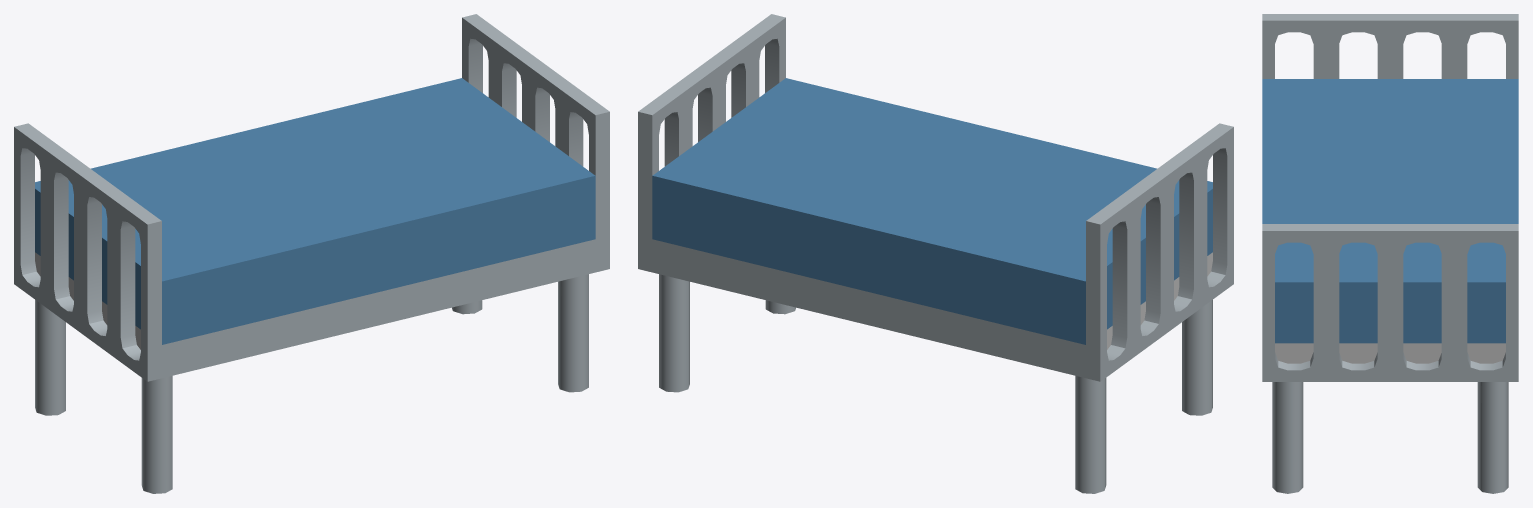
Rendered from OldBed_Block.fbx.
3 renders of one model, left to right at view 1: azimuth 30°, elevation 25°; view 2: azimuth 150°, elevation 25°; view 3: azimuth 270°, elevation 25°, orthographic. The views are drawn at different scales.
Visible parts, largest first — view 1: OldBed_Block1, OldBed_Block2; view 2: OldBed_Block1, OldBed_Block2; view 3: OldBed_Block2, OldBed_Block1.
Boxes of the visible parts, x1=… form: OldBed_Block1: x1=14, y1=123, x2=378, y2=493; OldBed_Block2: x1=246, y1=14, x2=609, y2=392; OldBed_Block1: x1=869, y1=123, x2=1233, y2=493; OldBed_Block2: x1=638, y1=14, x2=1001, y2=392; OldBed_Block2: x1=1262, y1=180, x2=1518, y2=493; OldBed_Block1: x1=1262, y1=14, x2=1518, y2=180.
Size of the model in its own units: 10 by 5.75 by 5.
